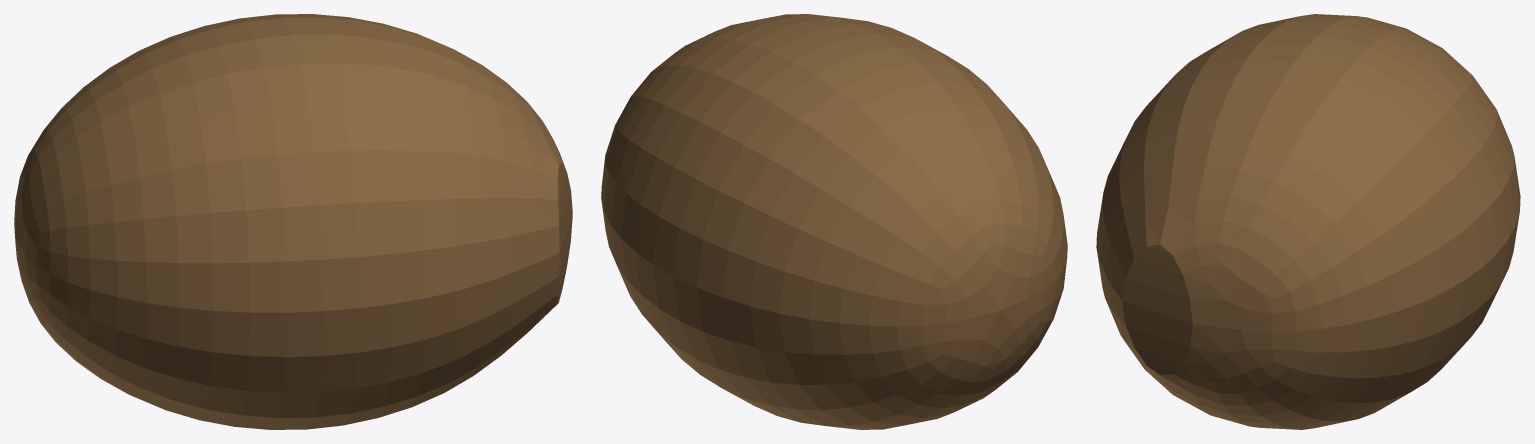
Rendered from LSsegment_joint_visu.dae.
3 views of the same model, side by side, from view 1: azimuth 30°, elevation 25°; view 2: azimuth 150°, elevation 25°; view 3: azimuth 270°, elevation 25° (orthographic). The views are drawn at different scales.
Visible parts, largest first — view 1: node; view 2: node; view 3: node.
Boxes of the visible parts, left/top/right/bottom form: node: left=14, top=14, right=572, bottom=429; node: left=601, top=14, right=1067, bottom=429; node: left=1096, top=14, right=1520, bottom=429.
Bounding box in the file's own units: 0.057 × 0.0431 × 0.0468.
